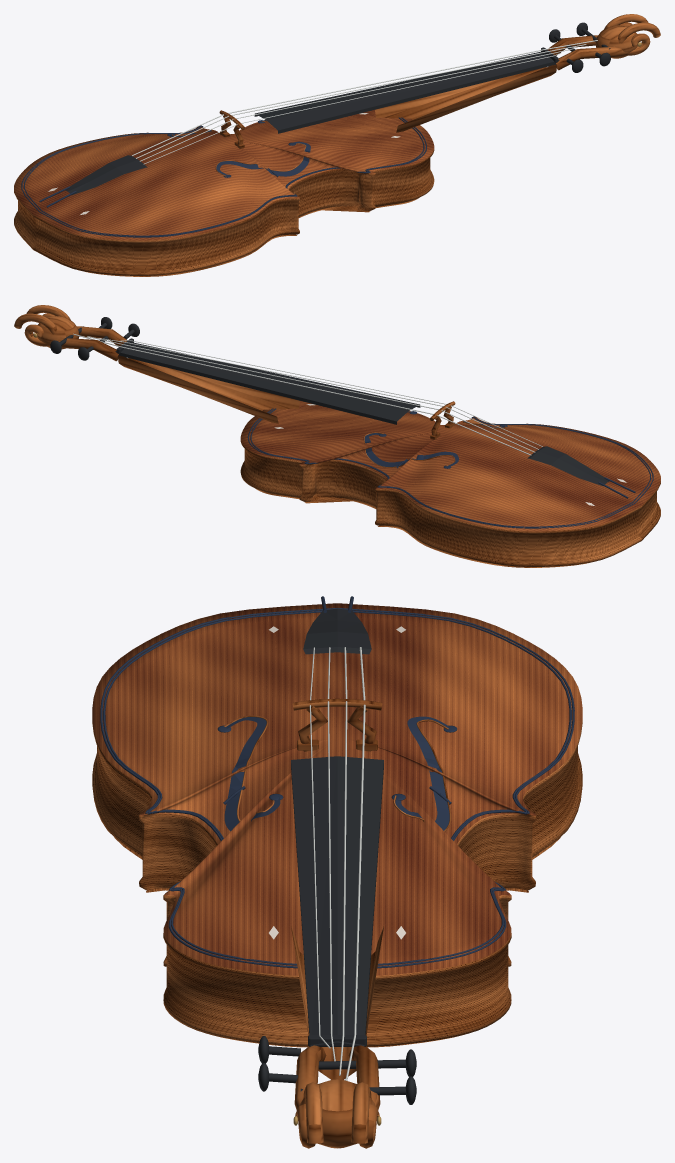
File: touring_violin.fbx
3 renders of one model, top to bottom at view 1: azimuth 30°, elevation 25°; view 2: azimuth 150°, elevation 25°; view 3: azimuth 270°, elevation 25°, orthographic. The views are drawn at different scales.
Parts seen in each view (by area): view 1: Body; view 2: Body; view 3: Body.
Boxes of the visible parts, <box> form: Body: <box>14,14,660,276</box>; Body: <box>14,305,660,567</box>; Body: <box>92,596,582,1148</box>.
Size of the model in its own units: 0.5862 by 0.0794 by 0.2001.
